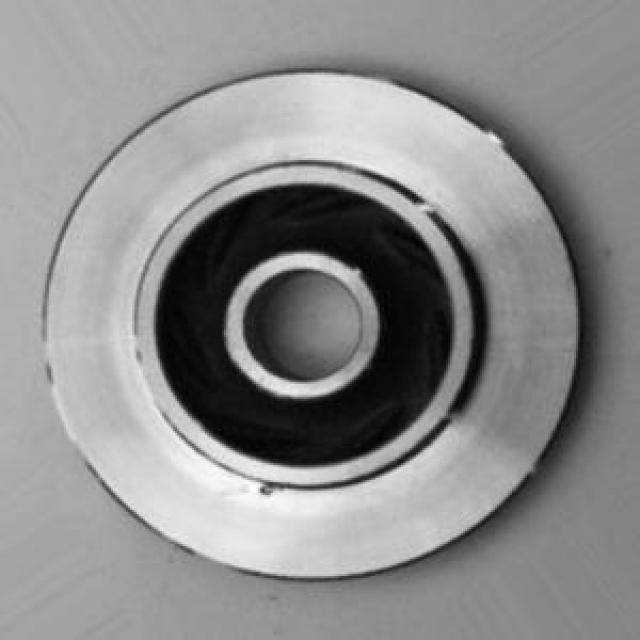Defect: (252, 479, 286, 504)
